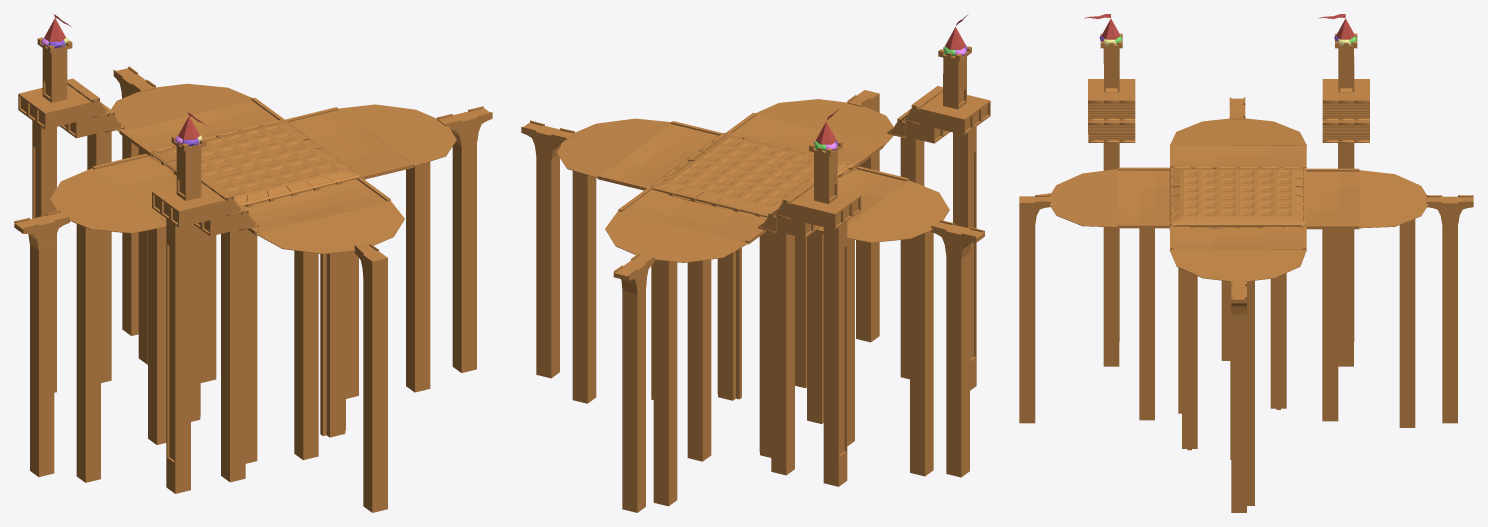
Rendered from sceene 1.fbx.
3 views of the same model, side by side, from view 1: azimuth 30°, elevation 25°; view 2: azimuth 150°, elevation 25°; view 3: azimuth 270°, elevation 25° (orthographic). The views are drawn at different scales.
Parts seen in each view (by area): view 1: Cube.006, Cube.054, Cube.055, Cube.011, Cube.087, Cube.096, Cube.010, Cube.012, Circle.004, Cube.039, Cube.007, Cube.117 (+9 smaller); view 2: Cube.054, Cube.006, Cube.055, Cube.010, Cube.011, Cube.117, Cube.007, Cube.038, Cube.044, Circle.004, Cube.012, Cube.087 (+8 smaller); view 3: Cube.055, Cube.054, Cube.011, Cube.006, Cube.010, Cube.007, Cube.038, Circle.004, Cube.096, Cube.012, Cube.044, Cube.013 (+2 smaller).
Part boxes in pixels (<box>): Cube.006: <box>14,153,176,482</box>; Cube.054: <box>285,104,492,398</box>; Cube.055: <box>244,177,404,512</box>; Cube.011: <box>150,120,360,207</box>; Cube.087: <box>166,218,190,493</box>; Cube.096: <box>221,229,245,482</box>; Cube.010: <box>119,97,287,382</box>; Cube.012: <box>320,252,345,437</box>; Circle.004: <box>111,83,252,132</box>; Cube.039: <box>245,229,257,463</box>; Cube.007: <box>113,66,155,335</box>; Cube.117: <box>32,120,56,392</box>; Cube.054: <box>521,118,722,403</box>; Cube.006: <box>814,166,984,477</box>; Cube.055: <box>726,90,893,388</box>; Cube.010: <box>618,186,766,461</box>; Cube.011: <box>650,133,852,217</box>; Cube.117: <box>823,221,847,486</box>; Cube.007: <box>613,252,654,512</box>; Cube.038: <box>653,260,677,506</box>; Cube.044: <box>771,232,794,475</box>; Circle.004: <box>605,211,748,262</box>; Cube.012: <box>717,247,741,400</box>; Cube.087: <box>953,126,976,390</box>; Cube.055: <box>1019,167,1176,423</box>; Cube.054: <box>1170,225,1306,512</box>; Cube.011: <box>1169,167,1305,230</box>; Cube.006: <box>1170,97,1306,360</box>; Cube.010: <box>1301,168,1359,421</box>; Cube.007: <box>1426,195,1473,423</box>; Cube.038: <box>1399,219,1415,427</box>; Circle.004: <box>1359,170,1428,228</box>; Cube.096: <box>1103,143,1119,366</box>; Cube.012: <box>1182,269,1197,450</box>; Cube.044: <box>1338,143,1353,366</box>; Cube.013: <box>1270,273,1286,409</box>.
Bounding box in the file's own units: 6041 × 5004 × 5774.
